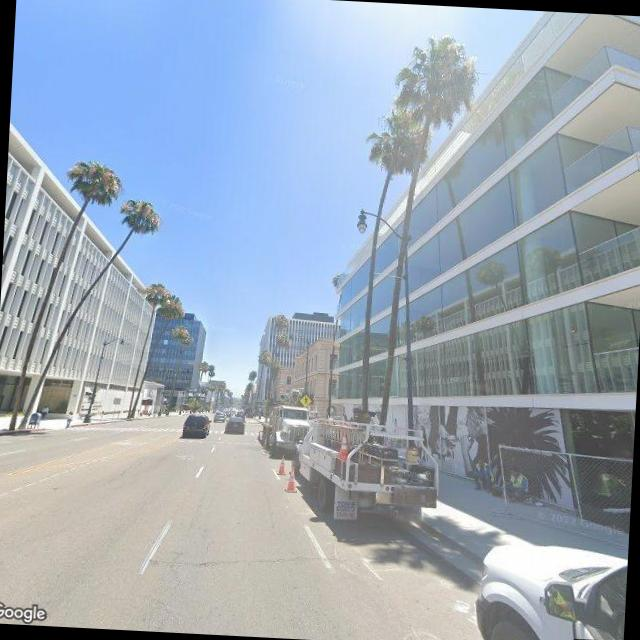crack: (146, 540, 322, 578)
